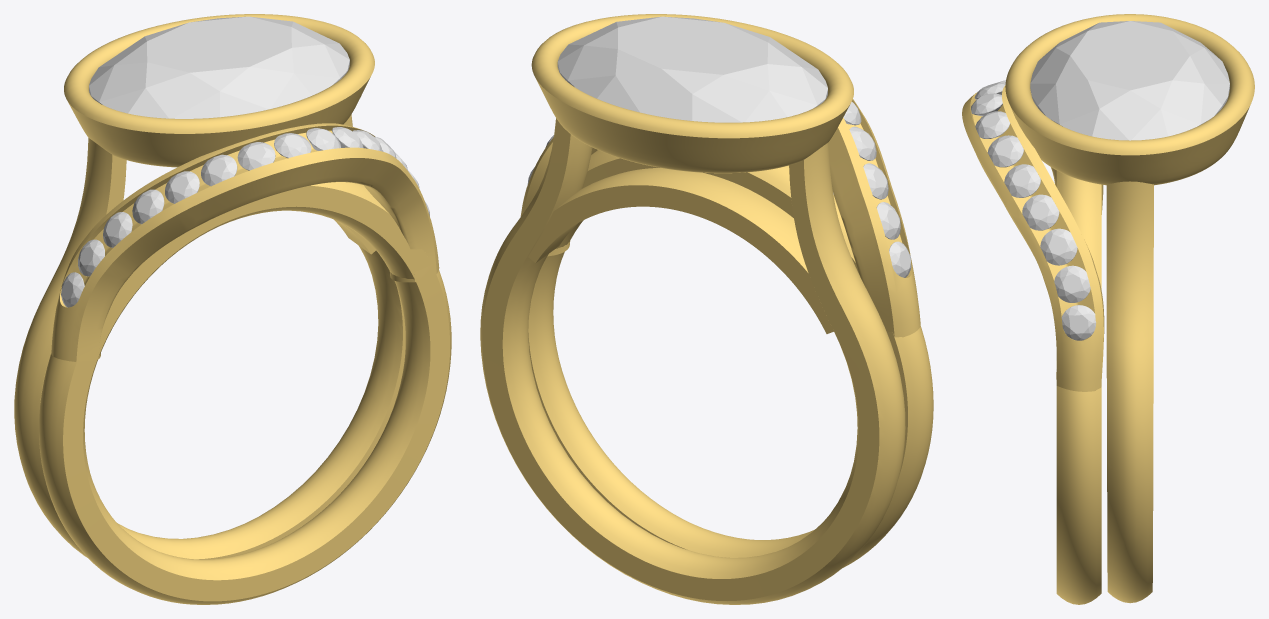
Rendered from BrendanHersV2yg_blender.glb.
3 views of the same model, side by side, from view 1: azimuth 30°, elevation 25°; view 2: azimuth 150°, elevation 25°; view 3: azimuth 270°, elevation 25° (orthographic). The views are drawn at different scales.
Visible parts, largest first — view 1: V2 Brendan hers YG for 3d model, V2 Brendan hers dia for 3d model, V2 Brendan hers dia for 3d model.006, V2 Brendan hers dia for 3d model.005, V2 Brendan hers dia for 3d model.007, V2 Brendan hers dia for 3d model.004, V2 Brendan hers dia for 3d model.003, V2 Brendan hers dia for 3d model.008, V2 Brendan hers dia for 3d model.002, V2 Brendan hers dia for 3d model.001, V2 Brendan hers dia for 3d model.009; view 2: V2 Brendan hers YG for 3d model, V2 Brendan hers dia for 3d model, V2 Brendan hers dia for 3d model.002, V2 Brendan hers dia for 3d model.003, V2 Brendan hers dia for 3d model.001; view 3: V2 Brendan hers YG for 3d model, V2 Brendan hers dia for 3d model, V2 Brendan hers dia for 3d model.014, V2 Brendan hers dia for 3d model.013, V2 Brendan hers dia for 3d model.012, V2 Brendan hers dia for 3d model.015, V2 Brendan hers dia for 3d model.011, V2 Brendan hers dia for 3d model.010, V2 Brendan hers dia for 3d model.009, V2 Brendan hers dia for 3d model.008.
Boxes of the visible parts, left/top/right/bottom form: V2 Brendan hers YG for 3d model: left=14, top=14, right=451, bottom=604; V2 Brendan hers dia for 3d model: left=89, top=16, right=349, bottom=118; V2 Brendan hers dia for 3d model.006: left=201, top=154, right=237, bottom=186; V2 Brendan hers dia for 3d model.005: left=165, top=171, right=199, bottom=203; V2 Brendan hers dia for 3d model.007: left=237, top=142, right=275, bottom=170; V2 Brendan hers dia for 3d model.004: left=132, top=189, right=164, bottom=224; V2 Brendan hers dia for 3d model.003: left=103, top=212, right=132, bottom=247; V2 Brendan hers dia for 3d model.008: left=274, top=133, right=311, bottom=158; V2 Brendan hers dia for 3d model.002: left=78, top=239, right=104, bottom=276; V2 Brendan hers dia for 3d model.001: left=61, top=272, right=84, bottom=307; V2 Brendan hers dia for 3d model.009: left=306, top=128, right=340, bottom=150; V2 Brendan hers YG for 3d model: left=480, top=14, right=933, bottom=604; V2 Brendan hers dia for 3d model: left=557, top=16, right=827, bottom=122; V2 Brendan hers dia for 3d model.002: left=876, top=202, right=900, bottom=239; V2 Brendan hers dia for 3d model.003: left=863, top=163, right=888, bottom=199; V2 Brendan hers dia for 3d model.001: left=889, top=241, right=911, bottom=277; V2 Brendan hers YG for 3d model: left=962, top=14, right=1254, bottom=604; V2 Brendan hers dia for 3d model: left=1030, top=21, right=1229, bottom=140; V2 Brendan hers dia for 3d model.014: left=1054, top=265, right=1090, bottom=302; V2 Brendan hers dia for 3d model.013: left=1040, top=228, right=1077, bottom=265; V2 Brendan hers dia for 3d model.012: left=1022, top=194, right=1059, bottom=230; V2 Brendan hers dia for 3d model.015: left=1061, top=305, right=1096, bottom=340; V2 Brendan hers dia for 3d model.011: left=1004, top=164, right=1040, bottom=197; V2 Brendan hers dia for 3d model.010: left=987, top=135, right=1023, bottom=167; V2 Brendan hers dia for 3d model.009: left=975, top=111, right=1010, bottom=138; V2 Brendan hers dia for 3d model.008: left=971, top=93, right=1002, bottom=116.
Bounding box in the file's own units: 18.58 × 23.34 × 11.74.
